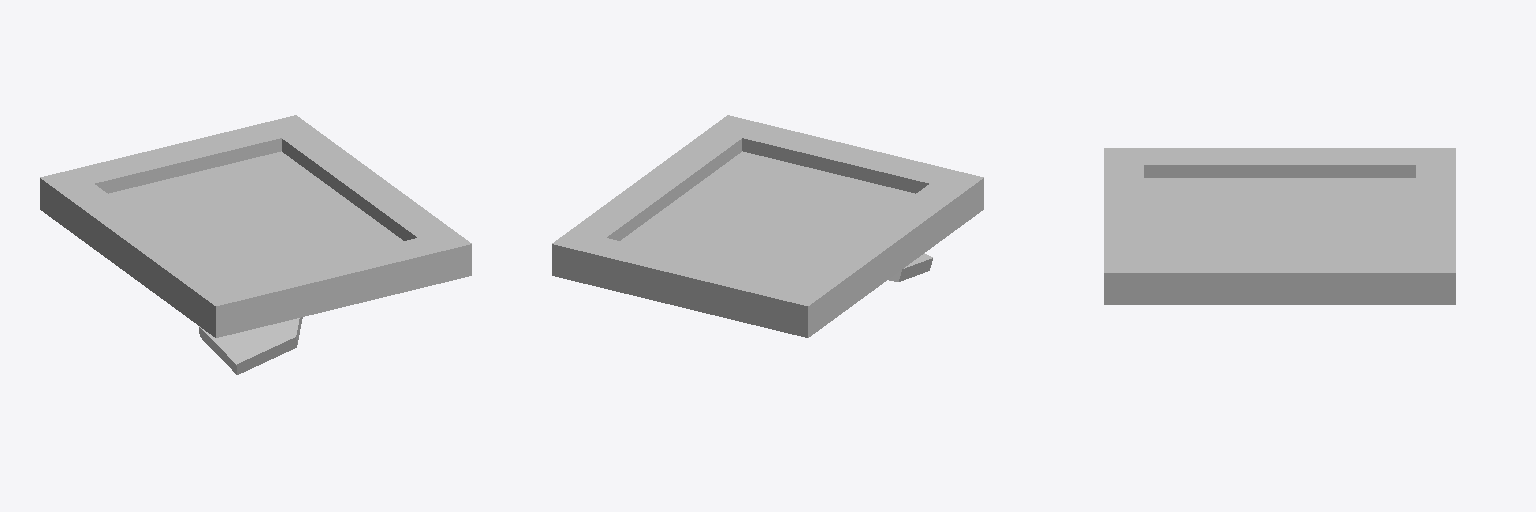
The model's file is PictureFrame_A__1.obj.
3 renders of one model, left to right at view 1: azimuth 30°, elevation 25°; view 2: azimuth 150°, elevation 25°; view 3: azimuth 270°, elevation 25°, orthographic.
Visible parts, largest first — view 1: Cube1, Cube2; view 2: Cube1, Cube2; view 3: Cube1.
Part boxes in pixels (bbox=[...]): Cube1: bbox=[40, 115, 471, 337]; Cube2: bbox=[199, 317, 302, 374]; Cube1: bbox=[552, 115, 983, 337]; Cube2: bbox=[889, 253, 932, 281]; Cube1: bbox=[1104, 148, 1455, 304].
Size of the model in its own units: 3.59 by 1.21 by 4.27.